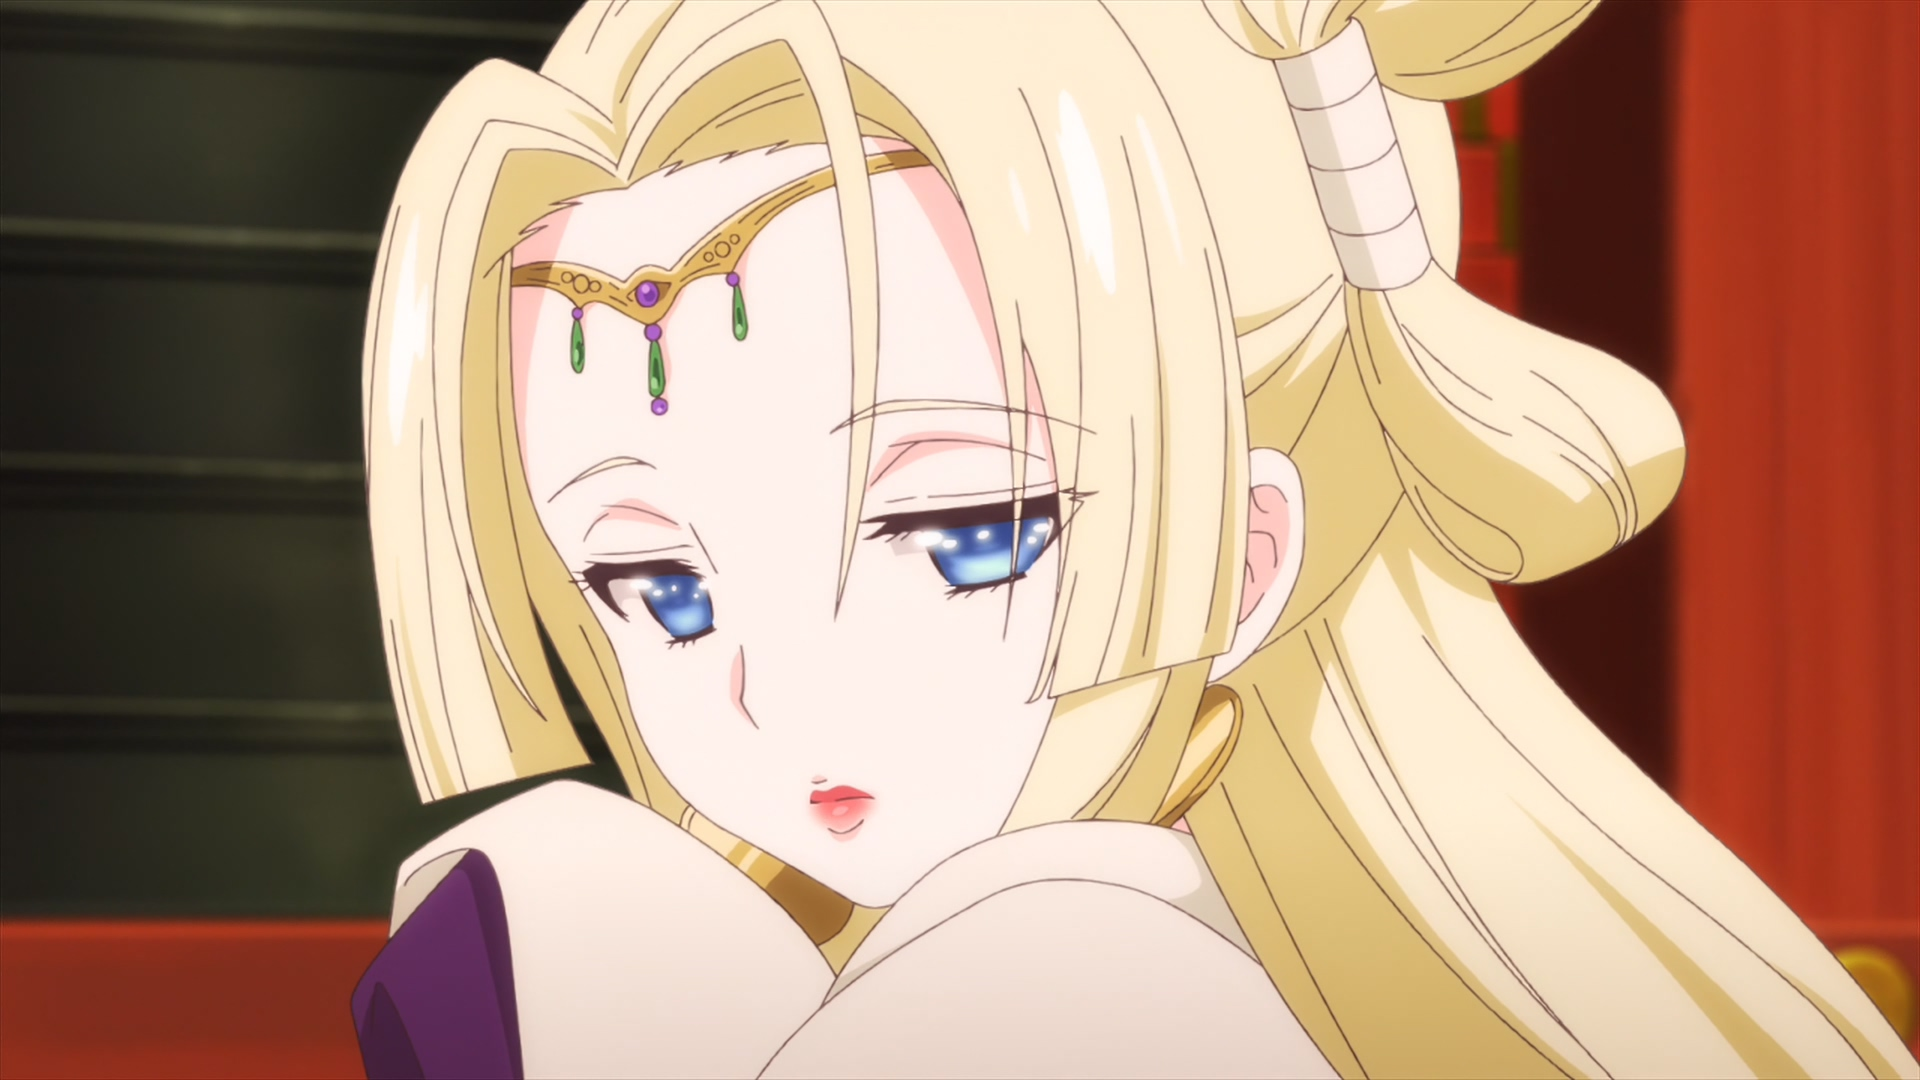其他: (352, 1, 1920, 1080)
